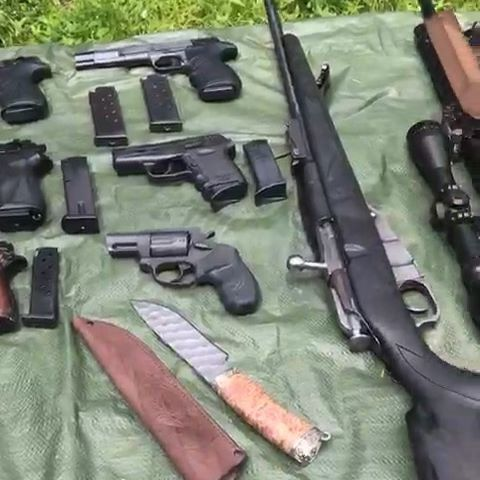gun: (106, 229, 262, 314), (73, 34, 243, 103), (111, 132, 249, 212)
knife: (131, 299, 323, 466)
